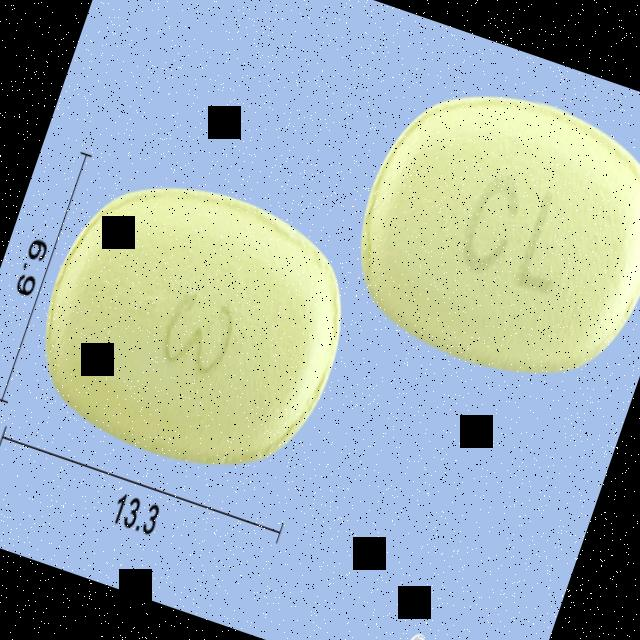Clamin: (9, 146, 379, 502), (326, 52, 640, 408)
